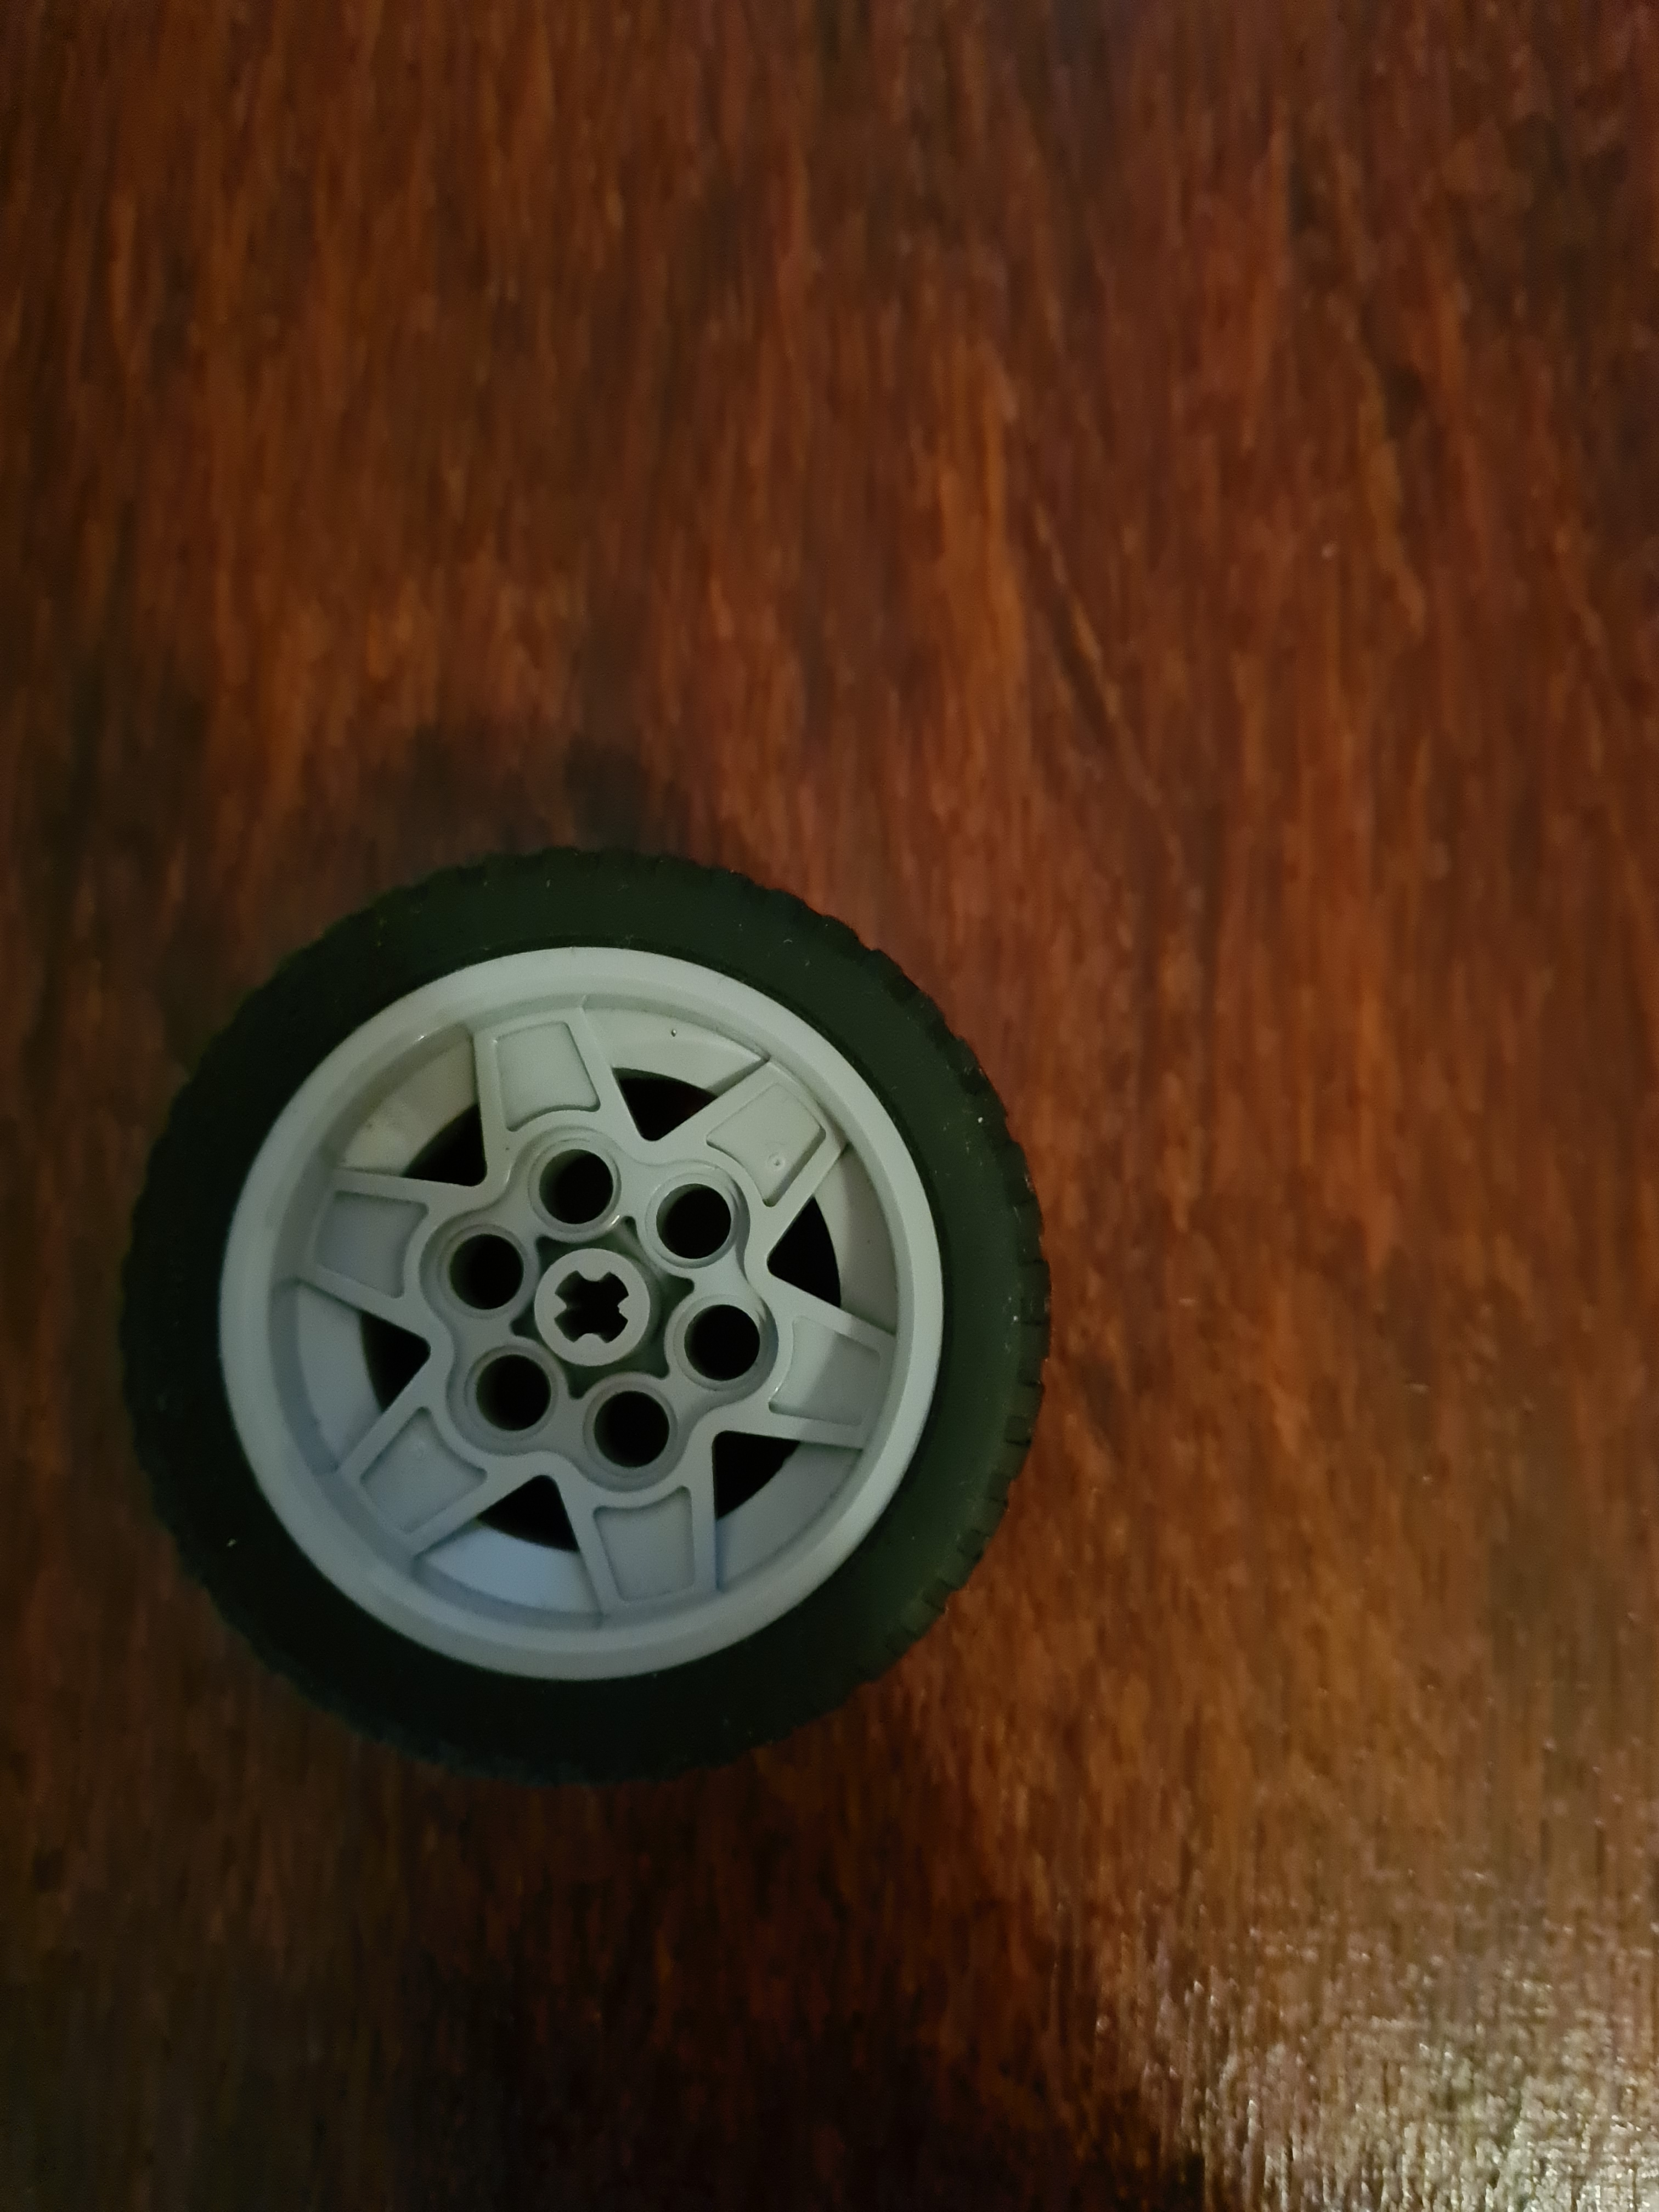Rad: (89, 805, 1103, 1813)
